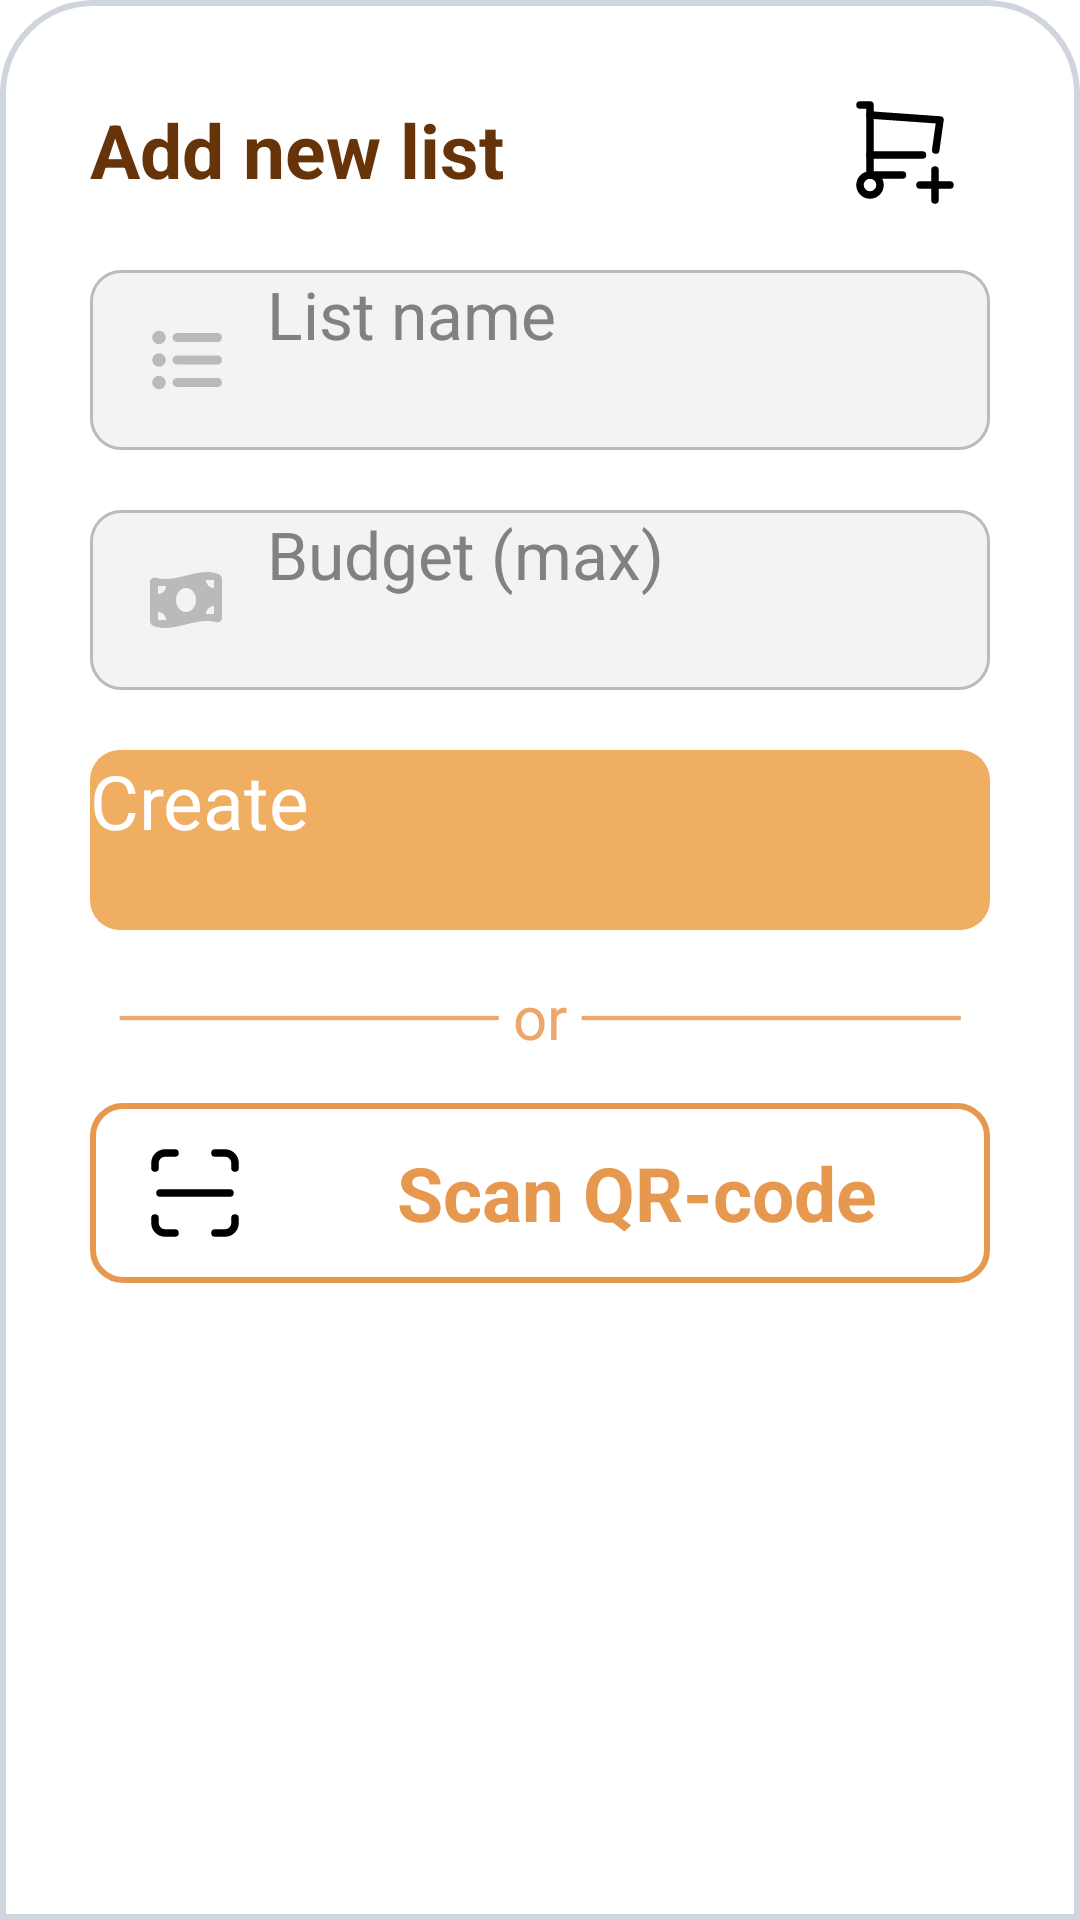

Icon bounding boxes for this 1080×1920 phone screenshot, format [x1,y1,x2,y2]:
cart plus: [856,101,954,204]
